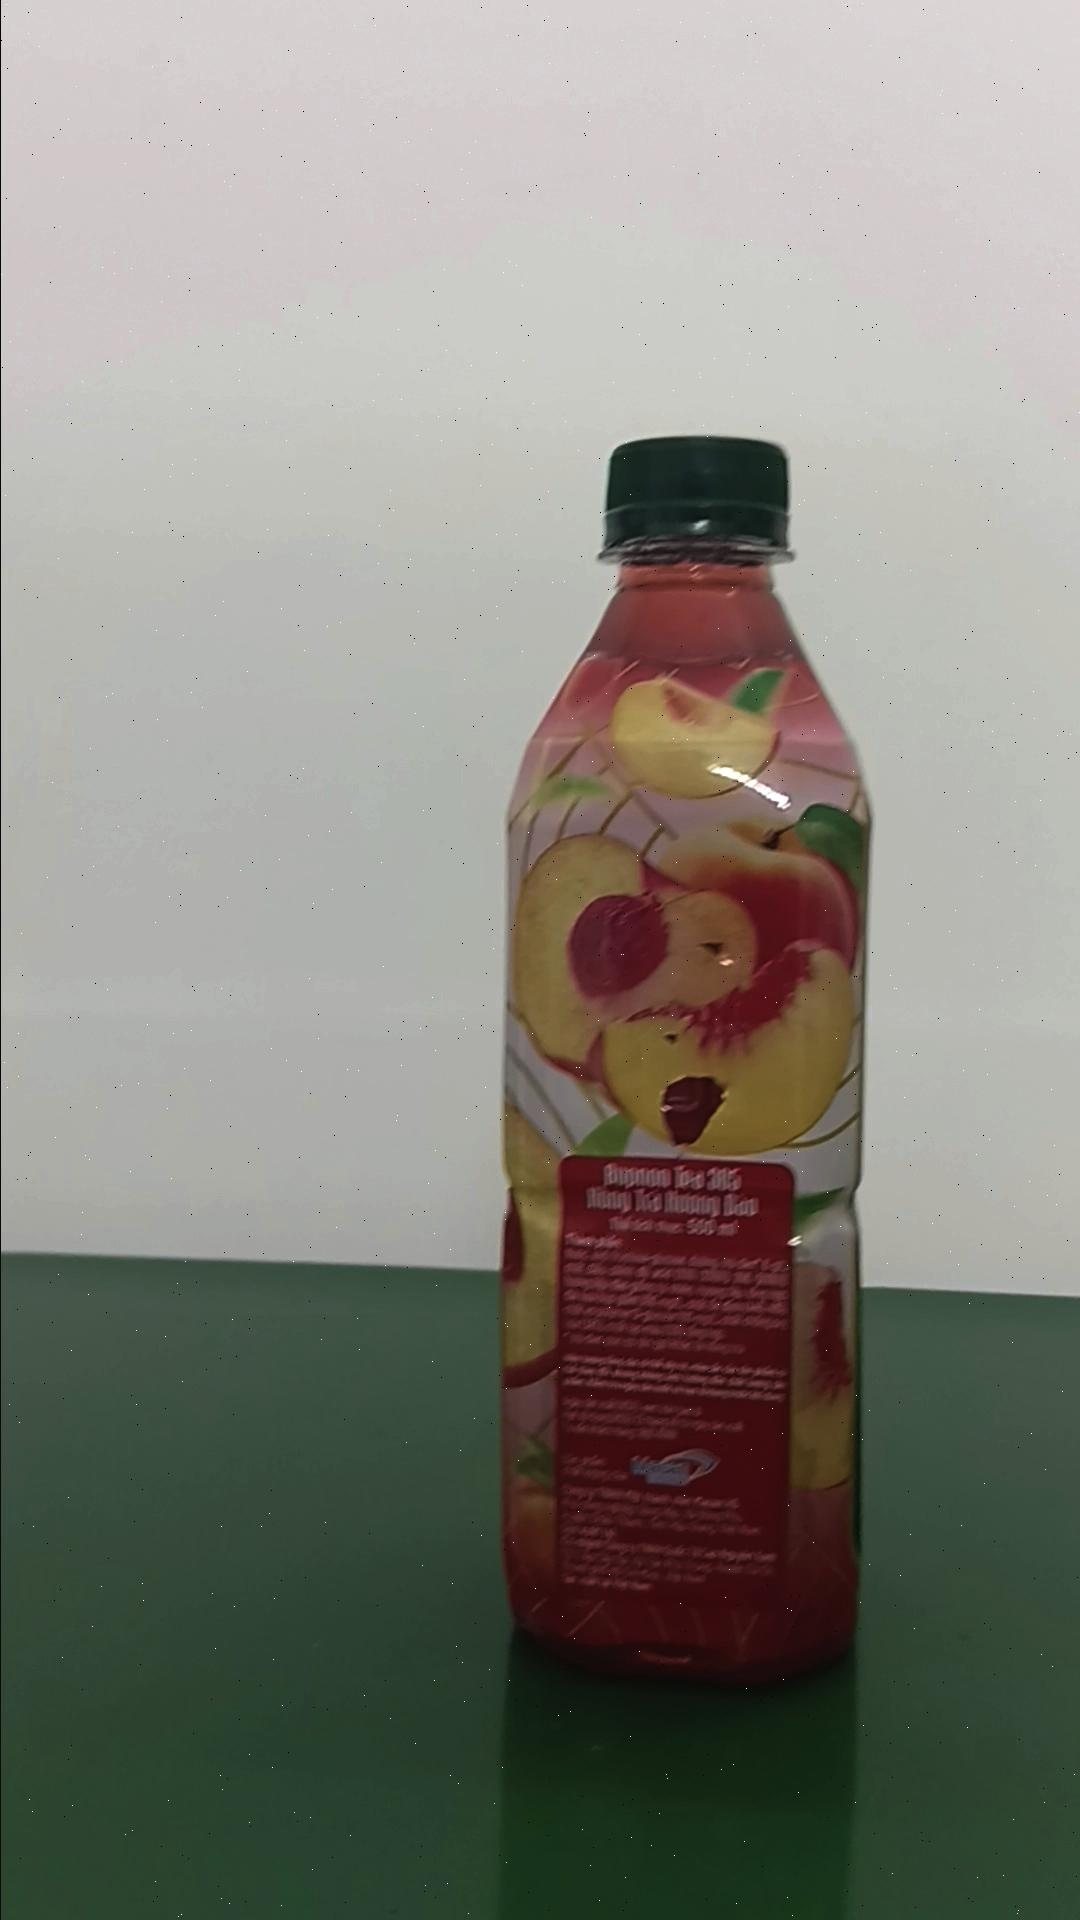loi rach va lap chai: (496, 423, 866, 1700)
